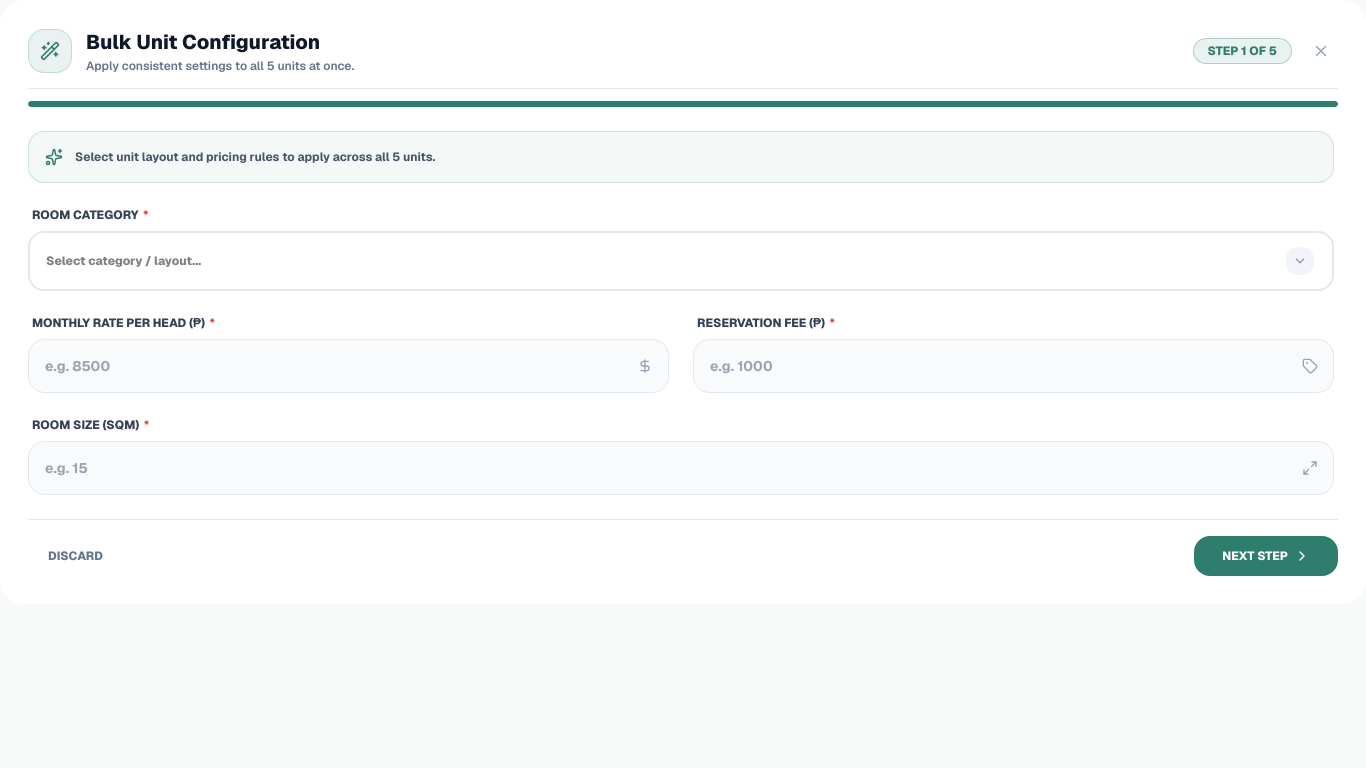
Test: BulkConfigureModal › validates empty submission on next step click
Click the button "Next Step": [1266, 556] box [1194, 536, 1338, 576]
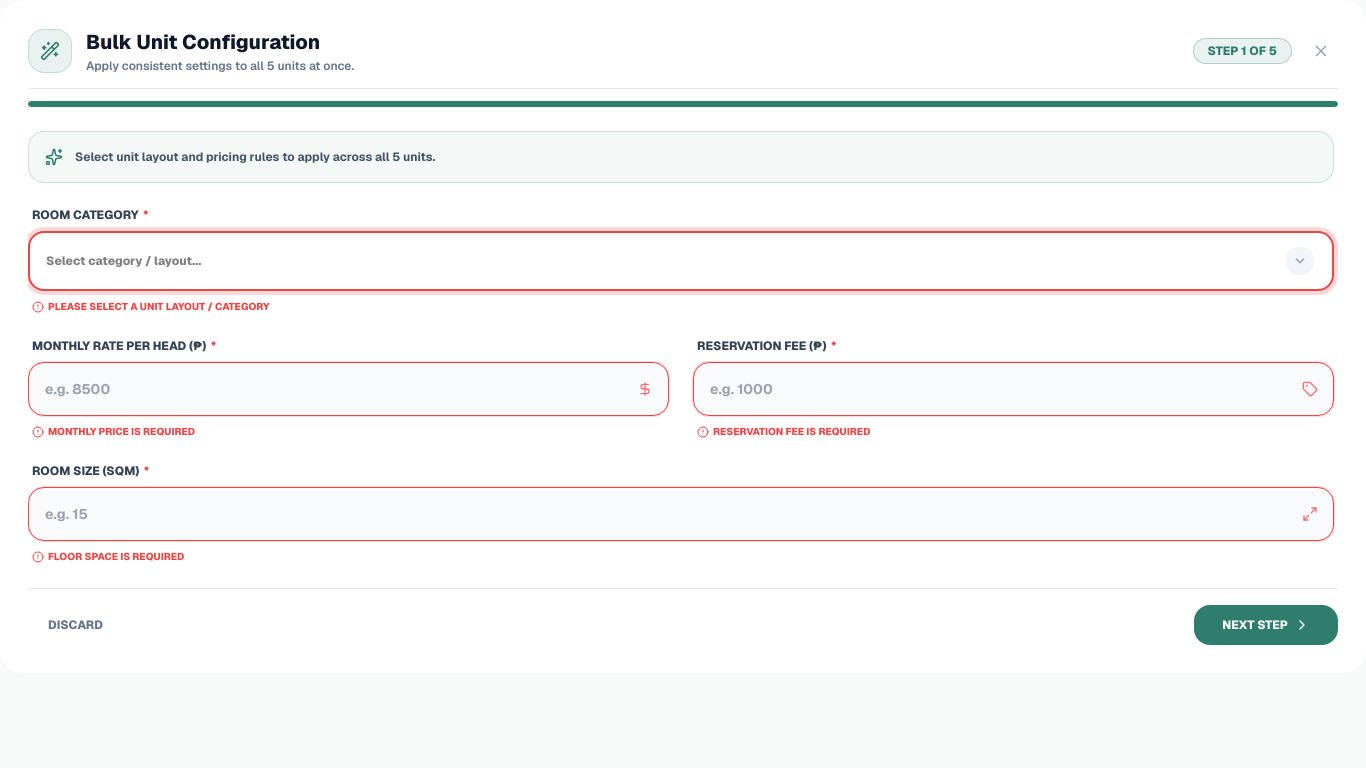
expect the text "Please select a unit layout / category" is shown: met, box [32, 300, 270, 313]
